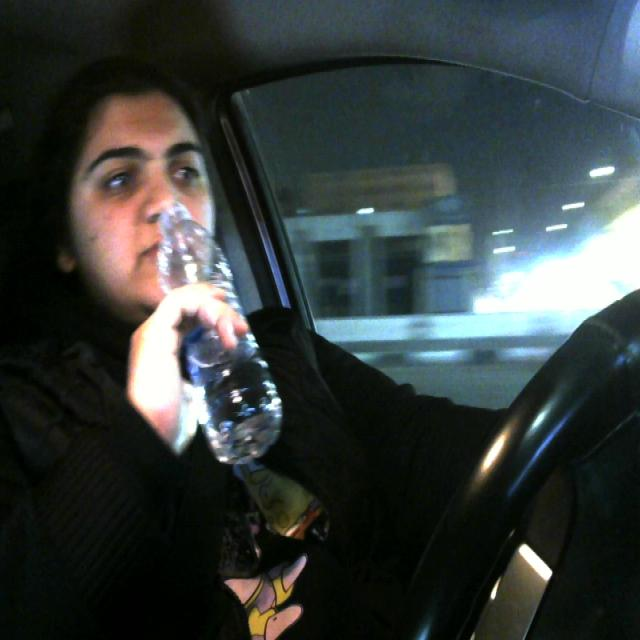drinking: (158, 196, 292, 476)
